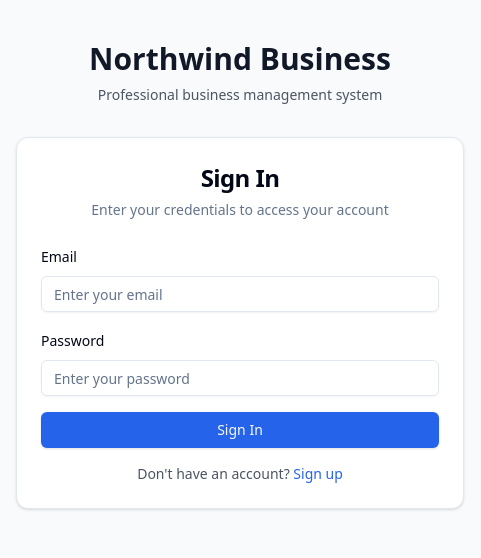
Login › should show error message when sign in fails
In the field labelled "Email": (240, 294) 41,276 -> 439,312, type "test@example.com"
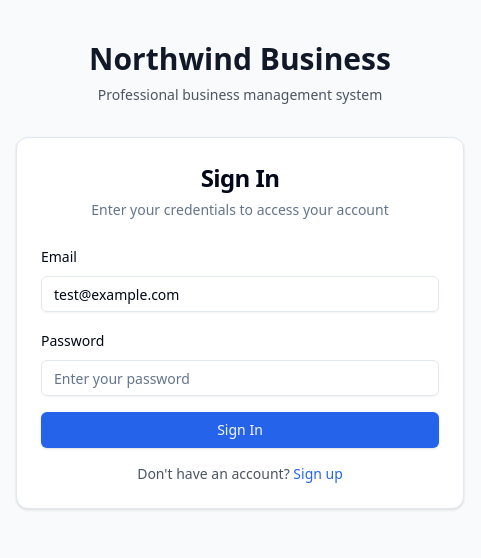
In the password field labelled "Password": (240, 378) 41,360 -> 439,396, type "password123"
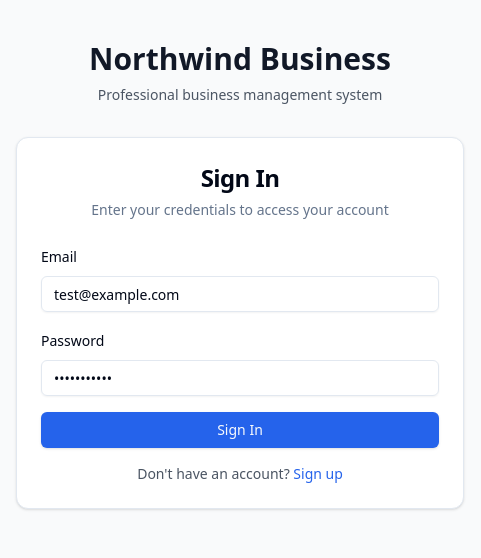
Click the button "Sign In": (240, 430) 41,412 -> 439,448
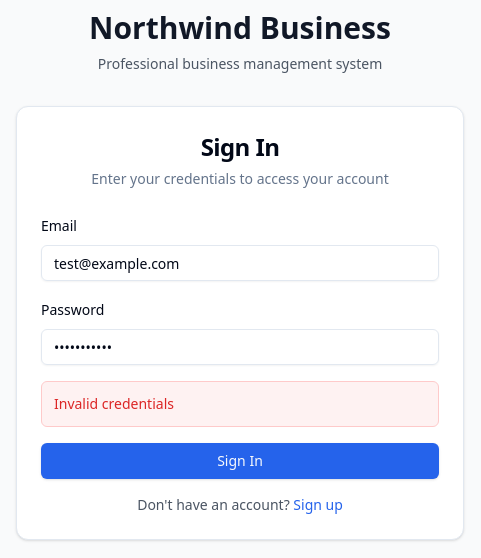
Result: the text "Invalid credentials" is shown at 41,381 -> 439,427
